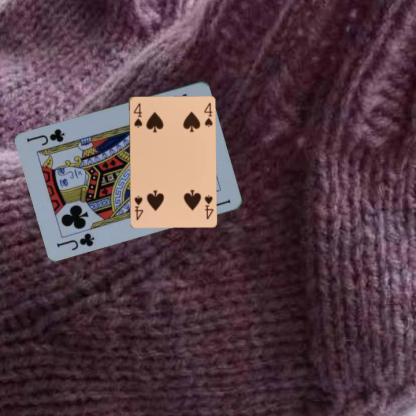4s: (202, 192, 214, 220), (131, 101, 143, 128)
Jc: (54, 230, 96, 251)
